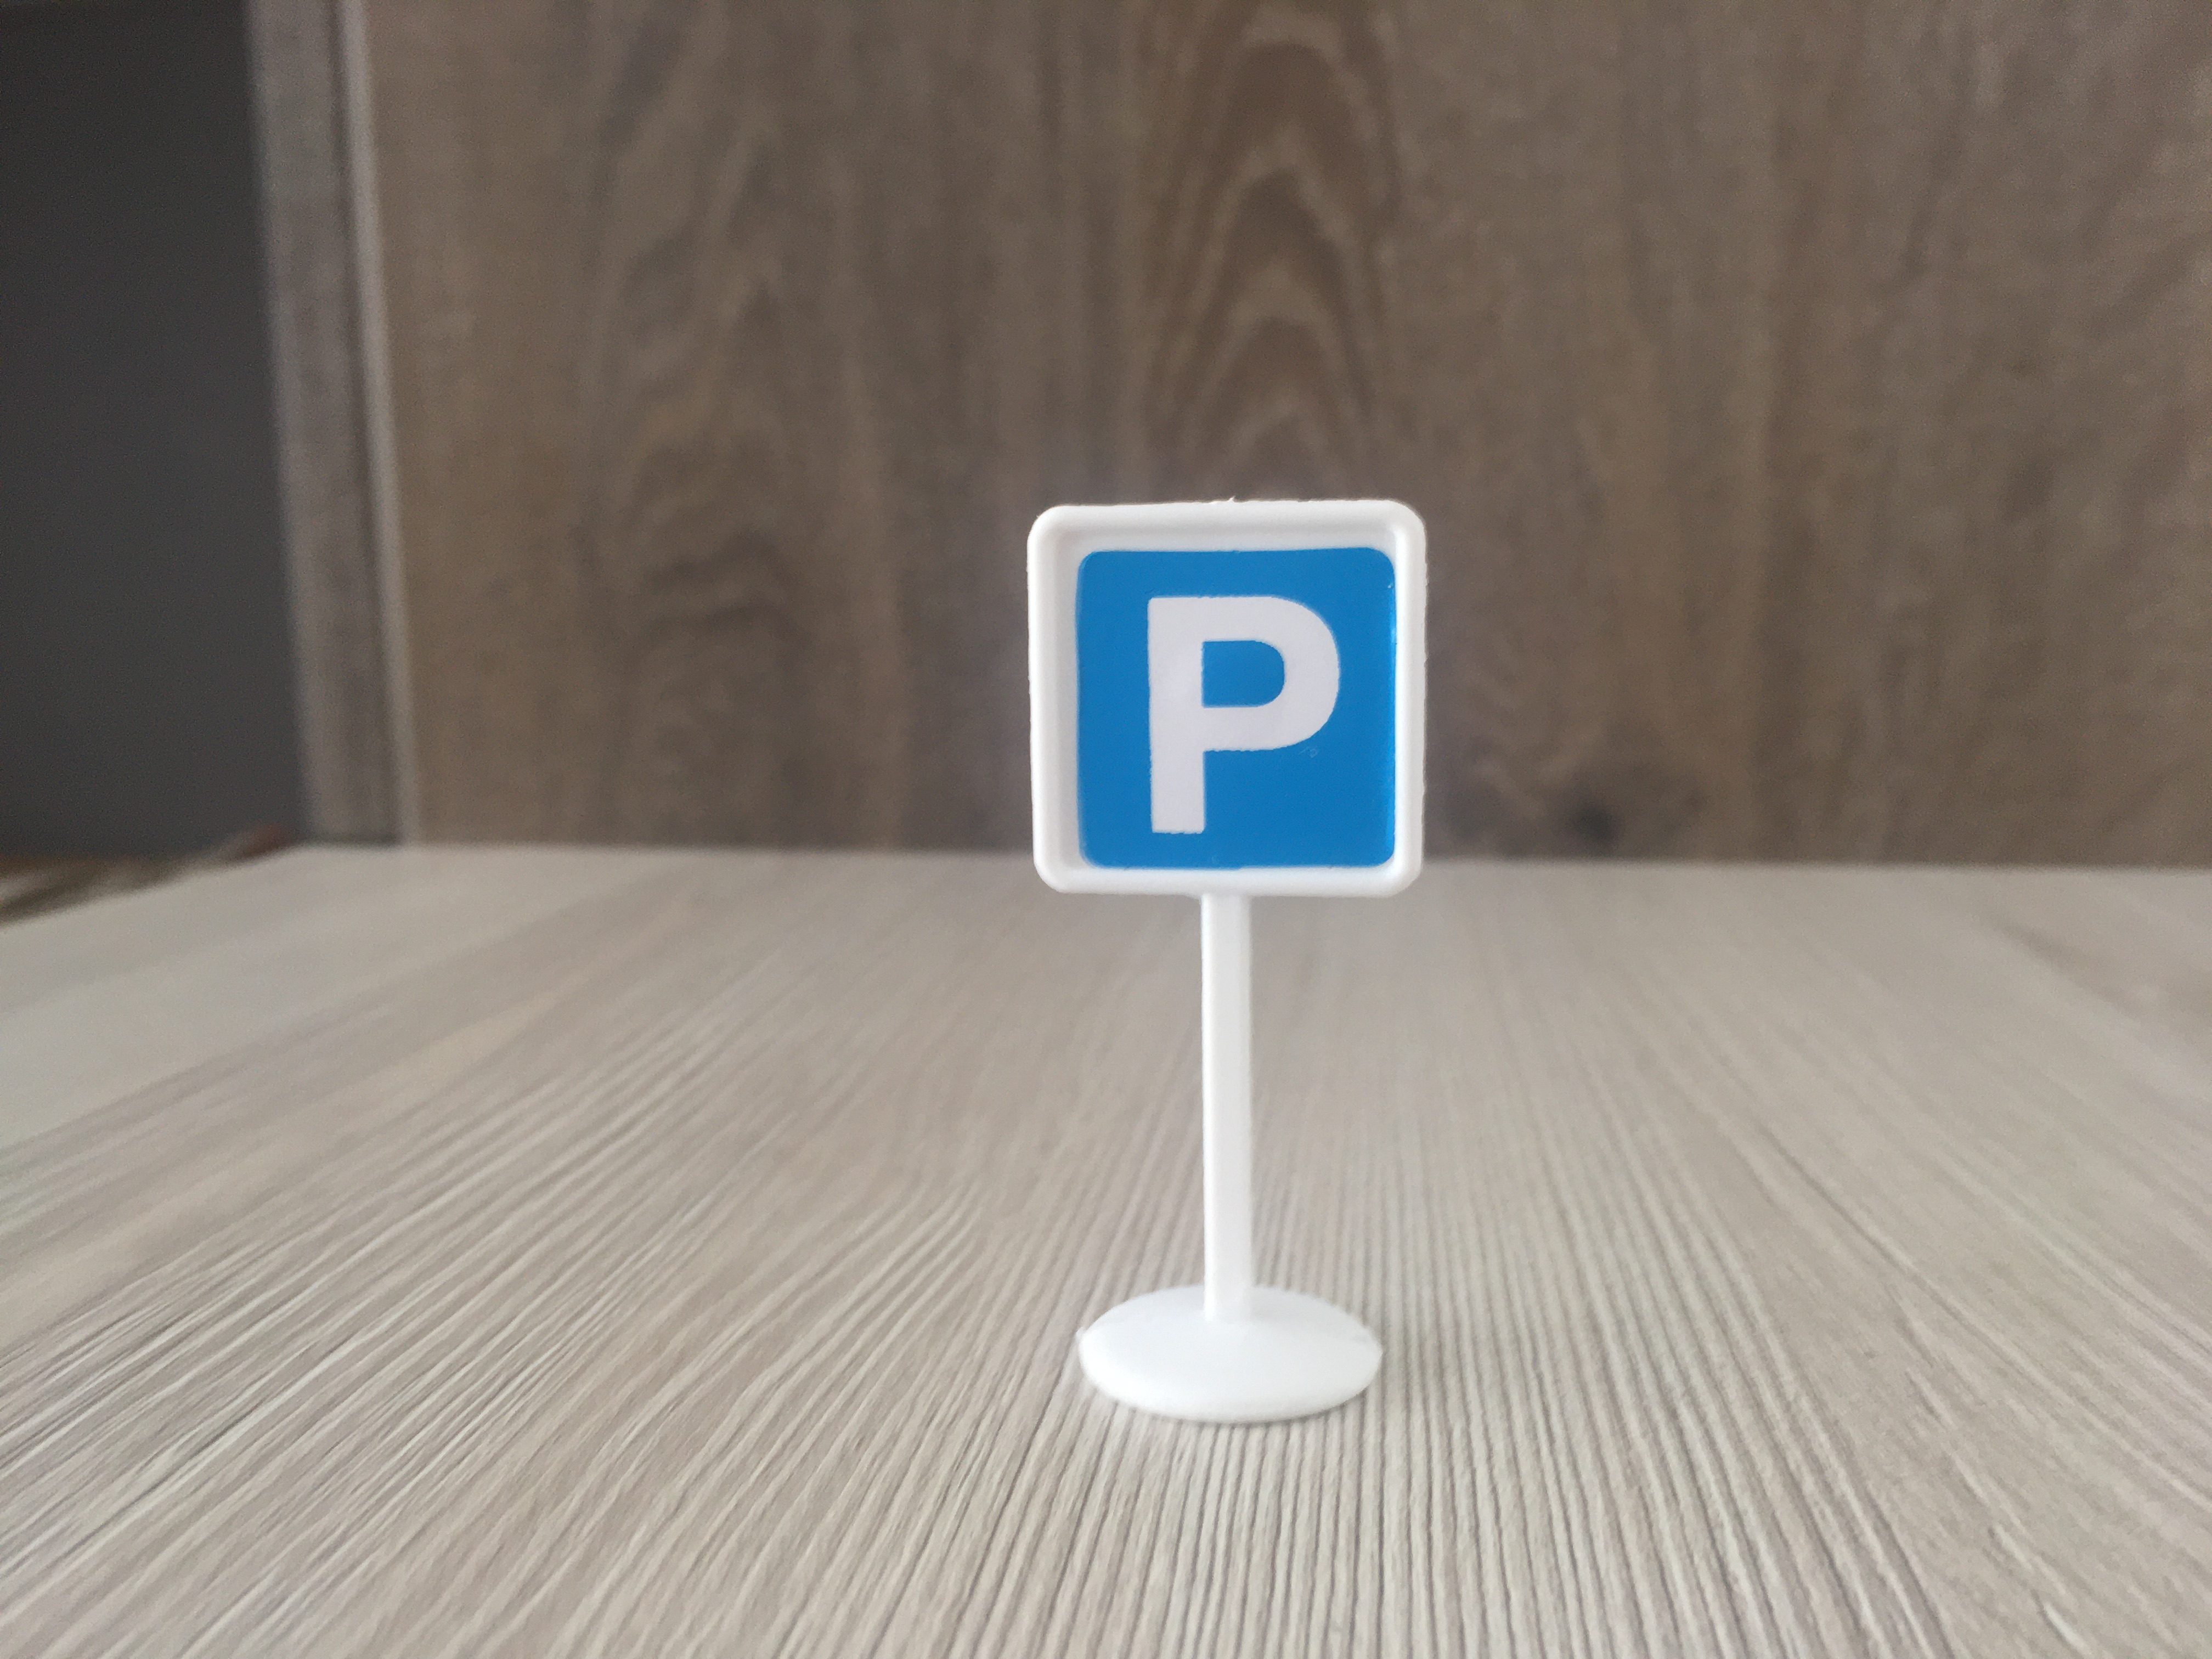parking: (1024, 505, 1430, 899)
